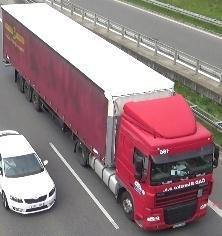Car: (0, 129, 57, 215)
Truck: (2, 5, 217, 230)
